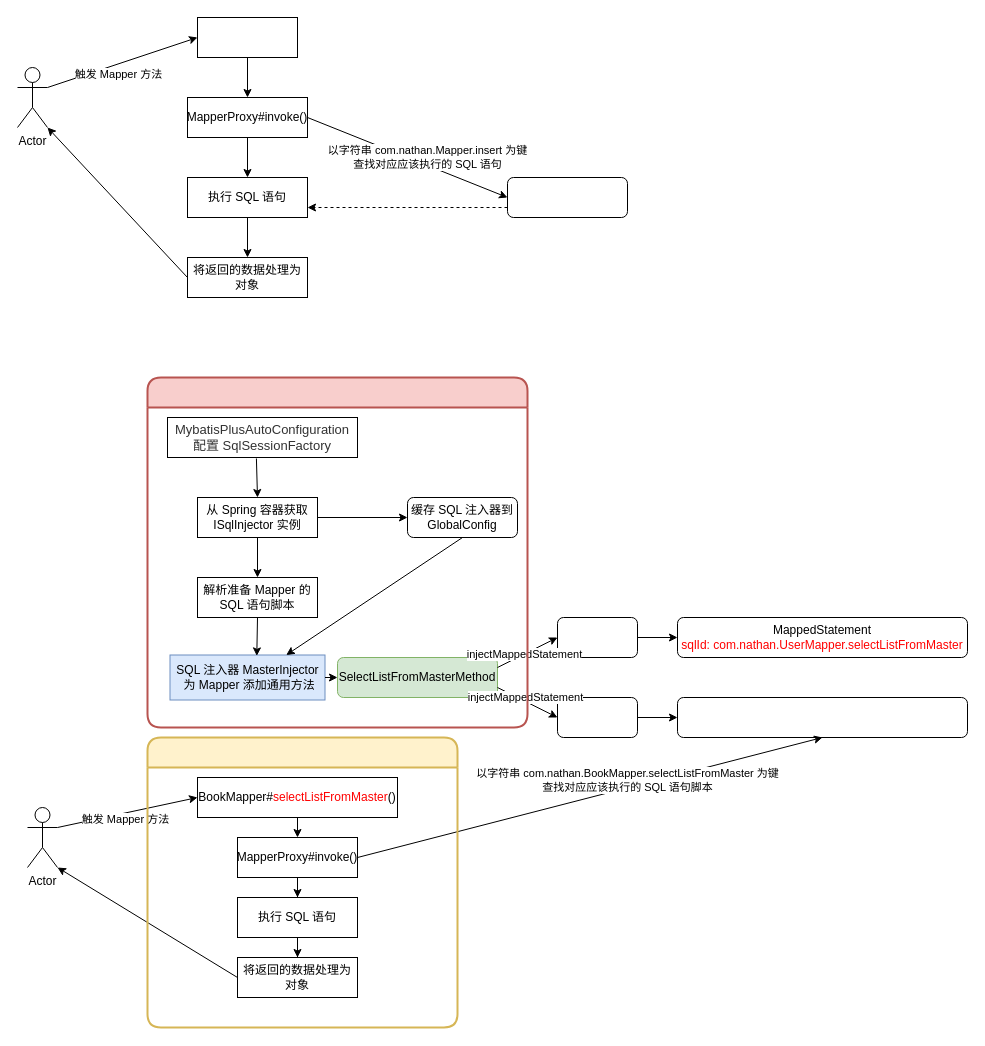
Some shapes in this 985 by 1046 pixel diagram are drawn without their labels. Here are the shapes that lost their labels. From the top down, the centre of each, then its label:
At pixel 247 37: "Mapper#insert()".
At pixel 567 197: "MappedStatement".
At pixel 337 552: "MyBatis-plus".
At pixel 597 637: "UserMapper".
At pixel 597 717: "BookMapper".
At pixel 822 717: "MappedStatement sqlId: com.nathan.BookMapper.selectListFromMaster".
At pixel 302 882: "MyBatis".
